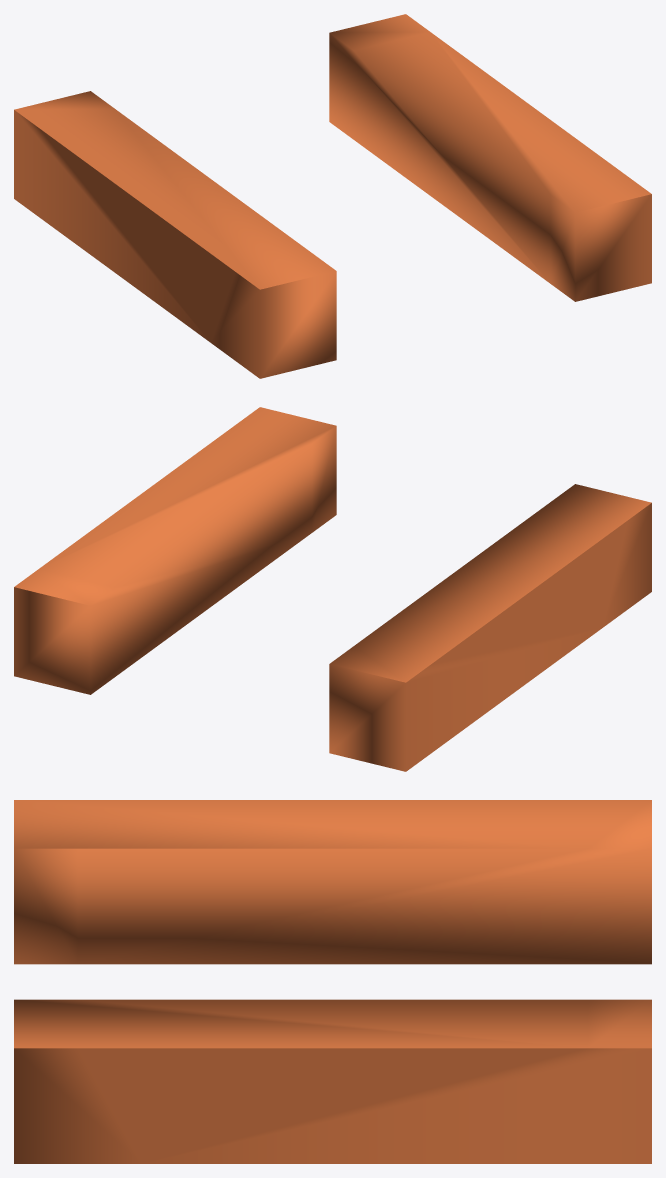
File: straightSand.fbx
3 renders of one model, top to bottom at view 1: azimuth 30°, elevation 25°; view 2: azimuth 150°, elevation 25°; view 3: azimuth 270°, elevation 25°, orthographic. The views are drawn at different scales.
Parts seen in each view (by area): view 1: sand1, sand2; view 2: sand1, sand2; view 3: sand1, sand2.
Part boxes in pixels (x1=…): sand1: x1=14, y1=91, x2=336, y2=378; sand2: x1=329, y1=14, x2=651, y2=301; sand1: x1=329, y1=484, x2=651, y2=771; sand2: x1=14, y1=407, x2=336, y2=694; sand1: x1=14, y1=800, x2=651, y2=964; sand2: x1=14, y1=999, x2=651, y2=1163.
Bounding box in the file's own units: 920 × 200 × 1000.
